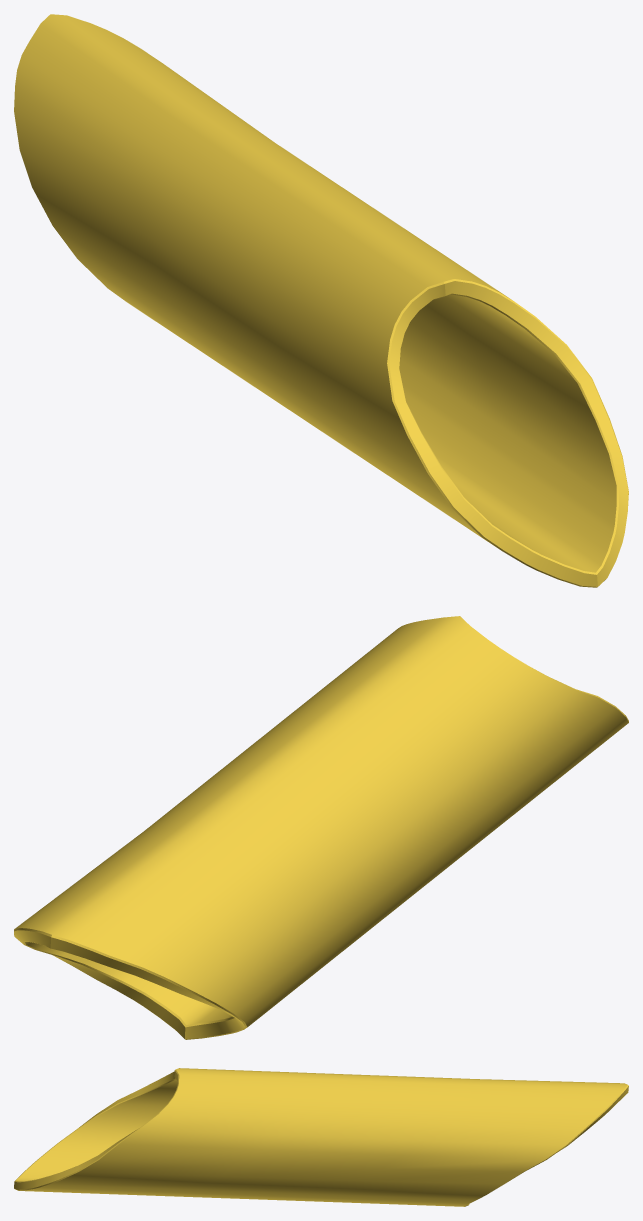
Rendered from makaroni.fbx.
3 views of the same model, one above another, from view 1: azimuth 30°, elevation 25°; view 2: azimuth 150°, elevation 25°; view 3: azimuth 270°, elevation 25° (orthographic). The views are drawn at different scales.
Visible parts, largest first — view 1: Куб.002; view 2: Куб.002; view 3: Куб.002.
Part boxes in pixels (x1,y1,x2,y2): Куб.002: (14,14,628,587); Куб.002: (14,616,628,1039); Куб.002: (14,1068,628,1206).
Bounding box in the file's own units: 0.9873 × 1.16 × 4.87.
